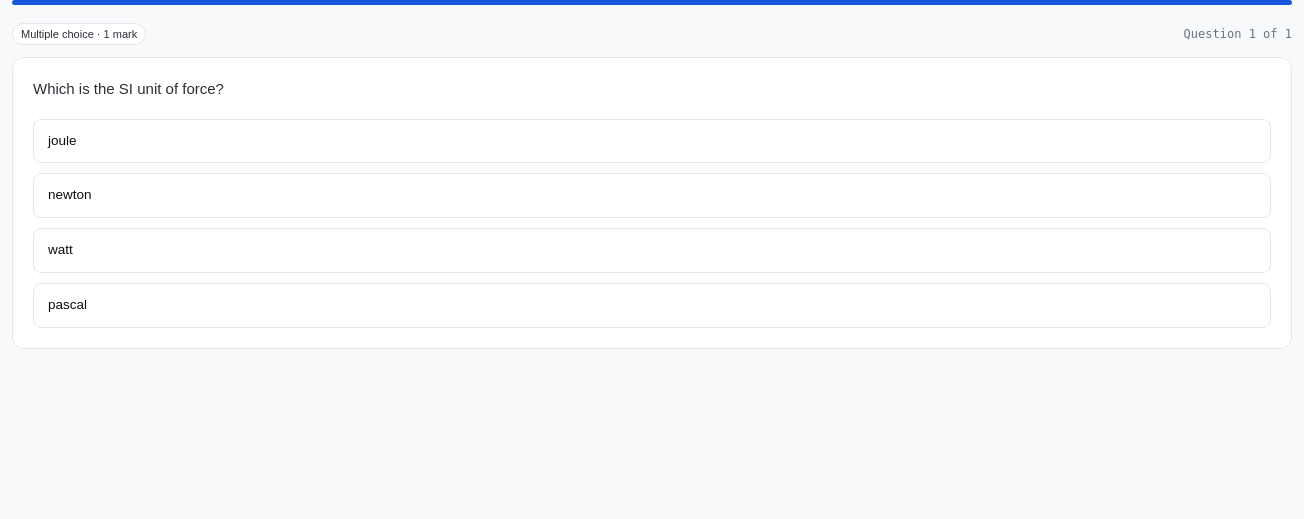
Test: unsaved results go to the outbox and are retried (FR-008, FR-009) › tells the student only when a result is rejected for good
Click the button "newton".
click(70, 195)  # box [33,173,1271,218]
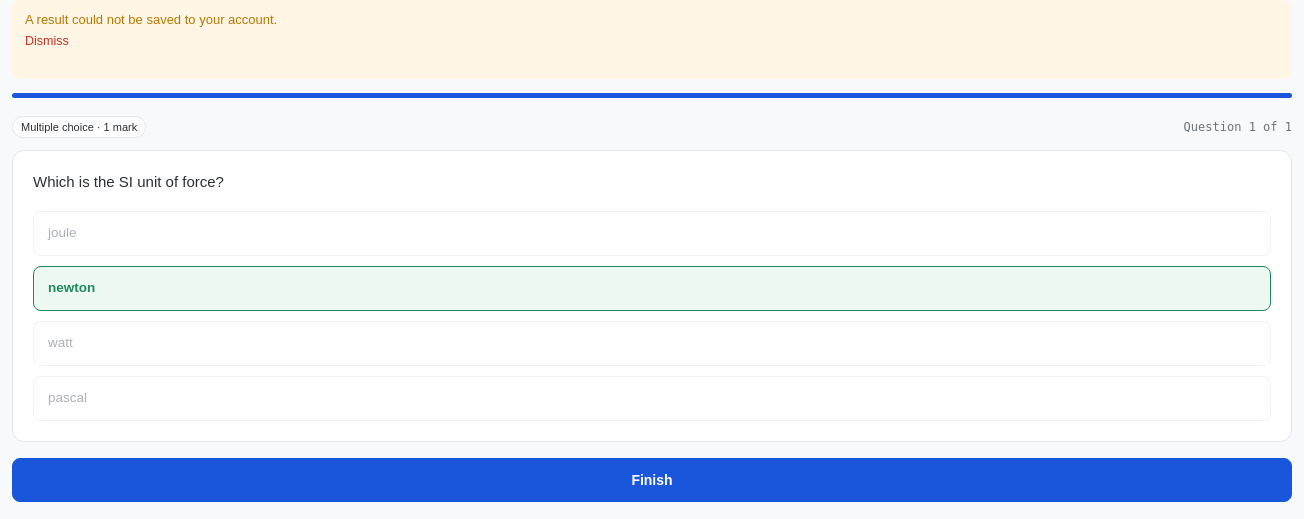
Expected: the text "A result could not be saved to your account. Dismiss" is shown, [12,0,1292,79]
